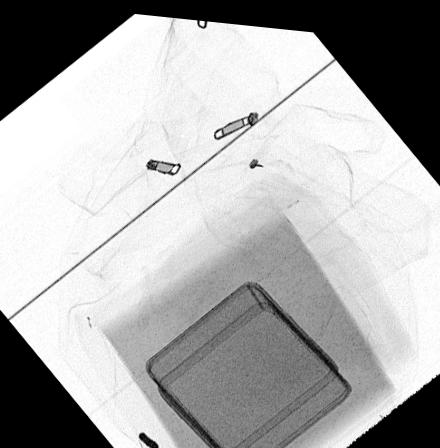Wrench: (137, 426, 166, 448)
